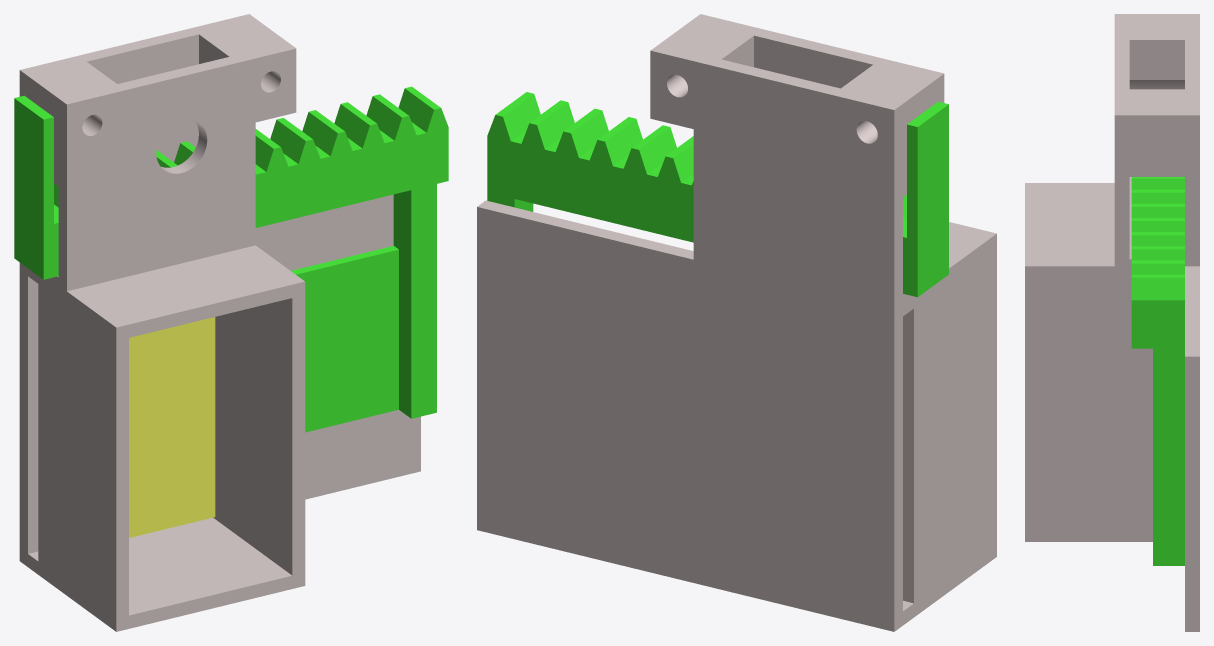
The model's file is dropperAnimation.glb.
The picture shows the model from 3 angles, left to right: view 1: azimuth 30°, elevation 25°; view 2: azimuth 150°, elevation 25°; view 3: azimuth 270°, elevation 25°; orthographic projection. The views are drawn at different scales.
Visible parts, largest first — view 1: Part 3, Part 1, card2.001; view 2: Part 3, Part 1; view 3: Part 3, Part 1.
Boxes of the visible parts, x1=… form: Part 3: x1=19, y1=14, x2=420, y2=631; Part 1: x1=14, y1=86, x2=448, y2=432; card2.001: x1=129, y1=317, x2=215, y2=537; Part 3: x1=477, y1=14, x2=996, y2=631; Part 1: x1=487, y1=92, x2=948, y2=297; Part 3: x1=1025, y1=14, x2=1199, y2=631; Part 1: x1=1131, y1=177, x2=1184, y2=565.
Size of the model in its own units: 0.0797 by 0.092 by 0.0328.
